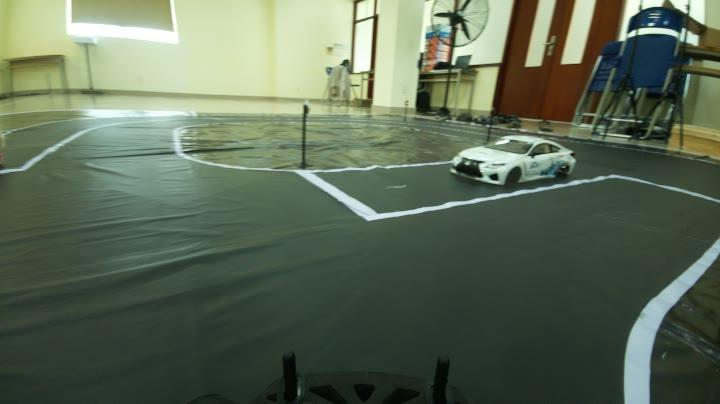car: (458, 136, 577, 192)
